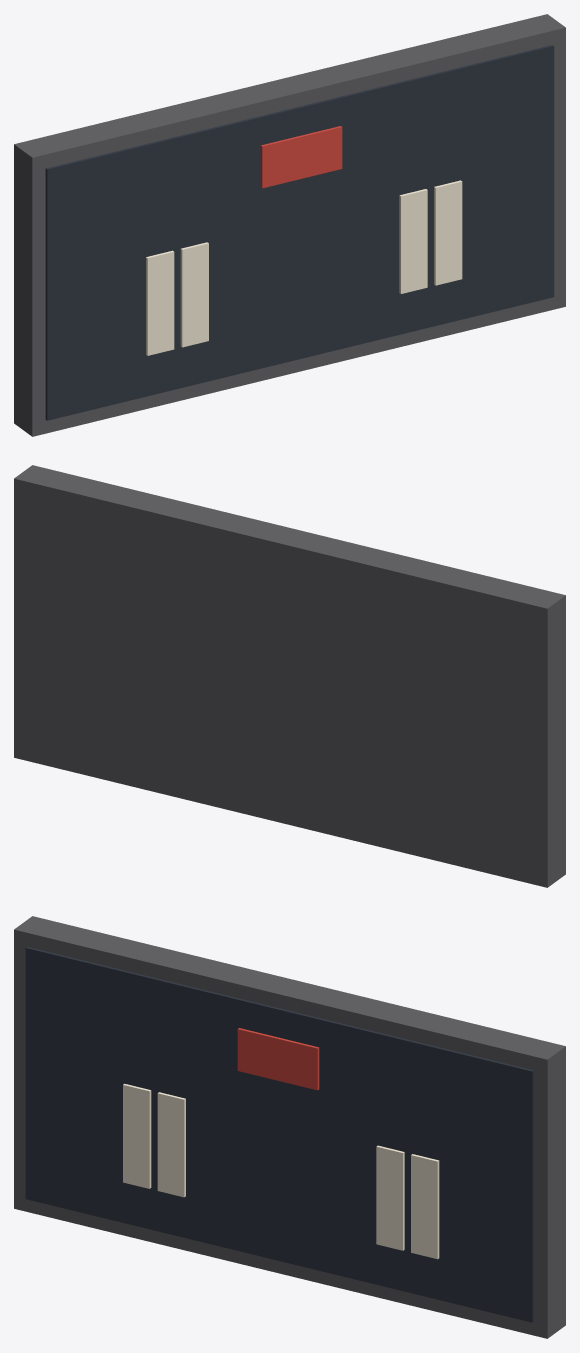
File: Scoreboard.fbx
3 views of the same model, one above another, from view 1: azimuth 30°, elevation 25°; view 2: azimuth 150°, elevation 25°; view 3: azimuth 330°, elevation 25° (orthographic).
Parts seen in each view (by area): view 1: Scoreboard; view 2: Scoreboard; view 3: Scoreboard.
Boxes of the visible parts, x1,y1,x2,y2 form: Scoreboard: (14, 14, 565, 436); Scoreboard: (14, 465, 565, 887); Scoreboard: (14, 916, 565, 1338).
Size of the model in its own units: 2 by 1 by 0.14.
